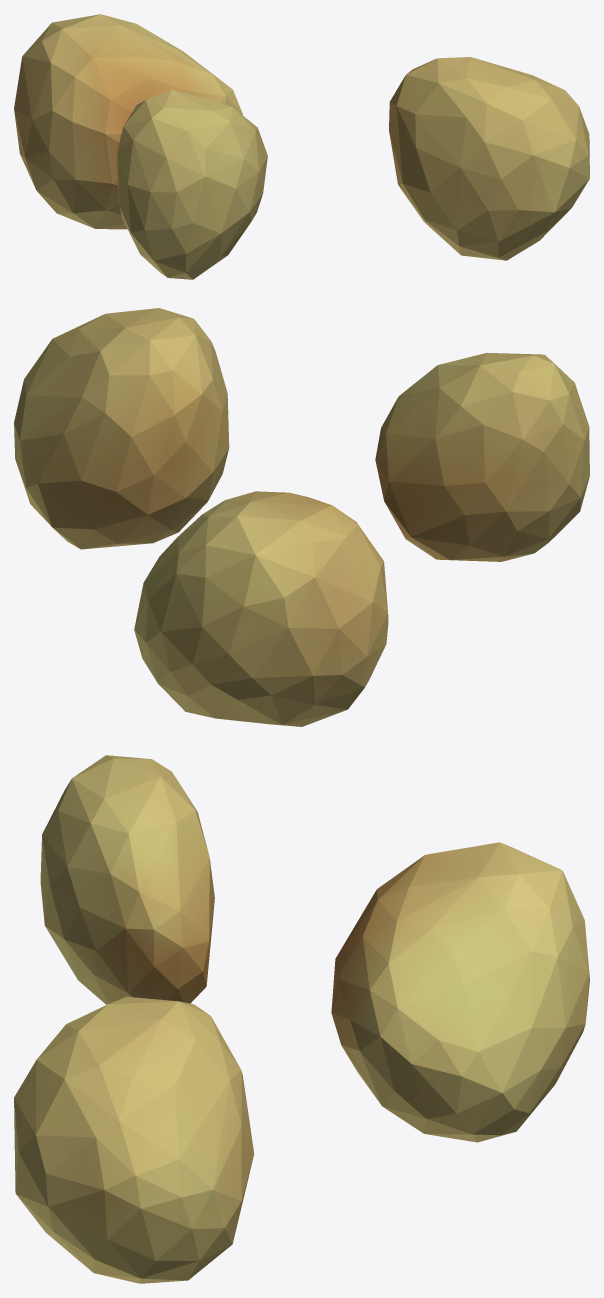
File: node_lymph_colic_L_LP.glb
3 views of the same model, one above another, from view 1: azimuth 30°, elevation 25°; view 2: azimuth 150°, elevation 25°; view 3: azimuth 270°, elevation 25° (orthographic). The views are drawn at different scales.
Parts seen in each view (by area): view 1: node_lymph_colic_L_LP; view 2: node_lymph_colic_L_LP; view 3: node_lymph_colic_L_LP.
Boxes of the visible parts, <box> form: node_lymph_colic_L_LP: <box>14,14,589,279</box>; node_lymph_colic_L_LP: <box>14,308,589,726</box>; node_lymph_colic_L_LP: <box>14,755,589,1283</box>.
Size of the model in its own units: 0.000285 by 0.000138 by 0.000237.
Materials: 1 (1 with a texture image).
